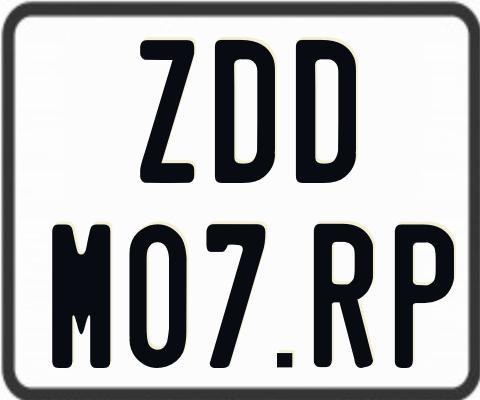0: (128, 222, 190, 372)
7: (204, 224, 269, 372)
D: (212, 40, 273, 186), (294, 38, 354, 185)
M: (50, 221, 112, 367)
P: (395, 224, 457, 371)
R: (311, 224, 373, 371)
Z: (138, 39, 195, 187)
